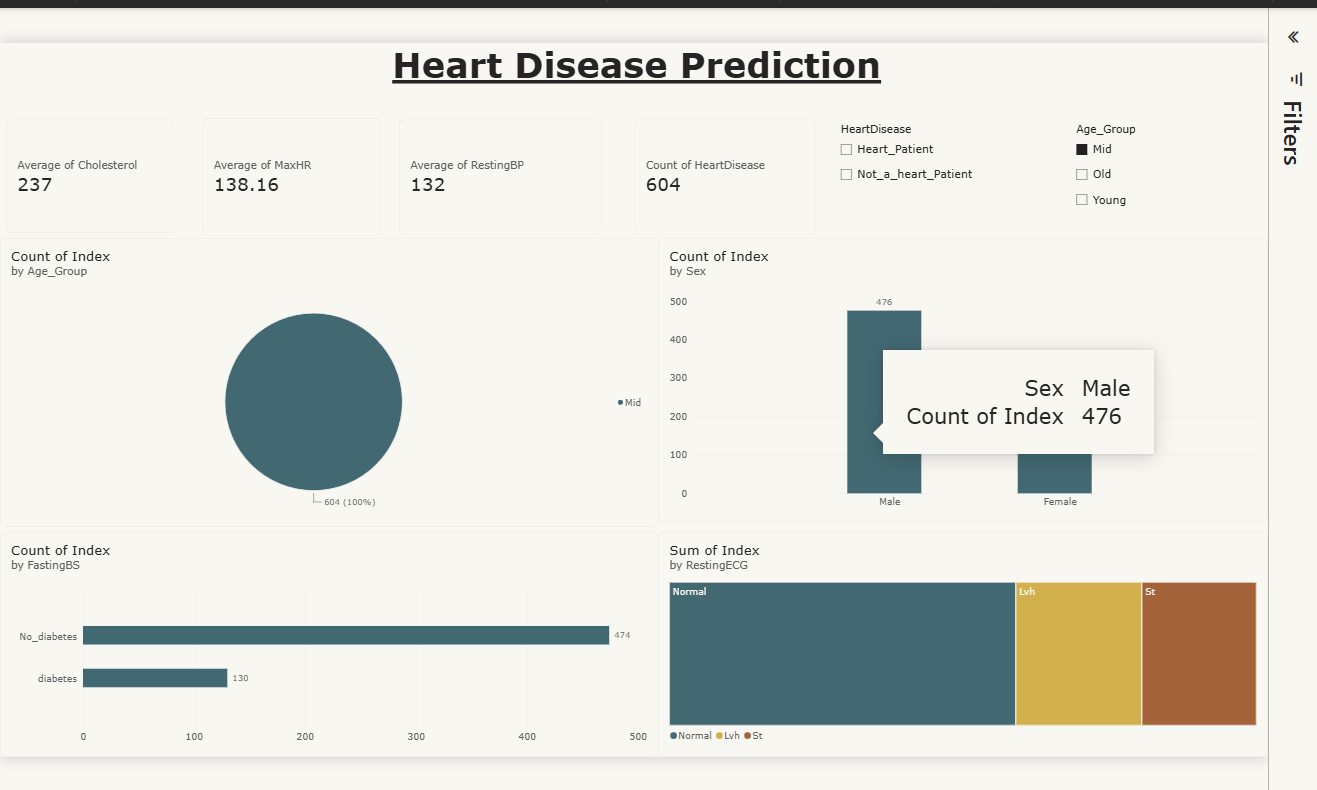

Layout of this report page (visuals, bound fields, positions):
{"tool":"powerbi","page":{"name":"Page 1","canvas":[1920,1080],"ordinal":0},"visuals":[{"type":"textbox","box":[10,0,1910,100],"z":0},{"type":"cardVisual","fields":{"Data":["Avg(hf_nodups.MaxHR)"]},"box":[307.5,112.5,270,178],"z":1000},{"type":"cardVisual","fields":{"Data":["Avg(hf_nodups.Cholesterol)"]},"box":[10,115,255,172.5],"z":2000},{"type":"cardVisual","fields":{"Data":["Avg(hf_nodups.RestingBP)"]},"box":[605,115,308,174],"z":3000},{"type":"cardVisual","fields":{"Data":["CountNonNull(hf_nodups.HeartDisease)"]},"box":[960,115,274,174],"z":4000},{"type":"slicer","fields":{"Values":["hf_nodups.HeartDisease"]},"box":[1265,120,300,170],"z":5000},{"type":"slicer","fields":{"Values":["hf_nodups.Age_Group"]},"box":[1622.5,120,298,174],"z":6000},{"type":"pieChart","fields":{"Category":["hf_nodups.Age_Group"],"Y":["CountNonNull(hf_nodups.Index)"]},"box":[0,295,997.5,437.5],"z":7000},{"type":"barChart","fields":{"Category":["hf_nodups.FastingBS"],"Y":["CountNonNull(hf_nodups.Index)"]},"box":[0,740,997.5,340],"z":8000},{"type":"columnChart","fields":{"Category":["hf_nodups.Sex"],"Y":["CountNonNull(hf_nodups.Index)"]},"box":[997.5,295,922.5,430],"z":9000},{"type":"treemap","fields":{"Group":["hf_nodups.RestingECG"],"Values":["Sum(hf_nodups.Index)"]},"box":[997.5,740,922.5,340],"z":10000}]}

Visuals, with their boxes on the page's 1920x1080 design canvas (x1, y1, x2, y2). These are canvas units, not pixel positions in the 1317x790 screenshot, which may show the page scaled, cropped or inside an application window:
textbox: 10,0,1920,100
cardVisual - Avg(hf_nodups.MaxHR): 308,112,578,290
cardVisual - Avg(hf_nodups.Cholesterol): 10,115,265,288
cardVisual - Avg(hf_nodups.RestingBP): 605,115,913,289
cardVisual - CountNonNull(hf_nodups.HeartDisease): 960,115,1234,289
slicer - hf_nodups.HeartDisease: 1265,120,1565,290
slicer - hf_nodups.Age_Group: 1622,120,1920,294
pieChart - hf_nodups.Age_Group x CountNonNull(hf_nodups.Index): 0,295,998,732
barChart - hf_nodups.FastingBS x CountNonNull(hf_nodups.Index): 0,740,998,1080
columnChart - hf_nodups.Sex x CountNonNull(hf_nodups.Index): 998,295,1920,725
treemap - hf_nodups.RestingECG x Sum(hf_nodups.Index): 998,740,1920,1080
